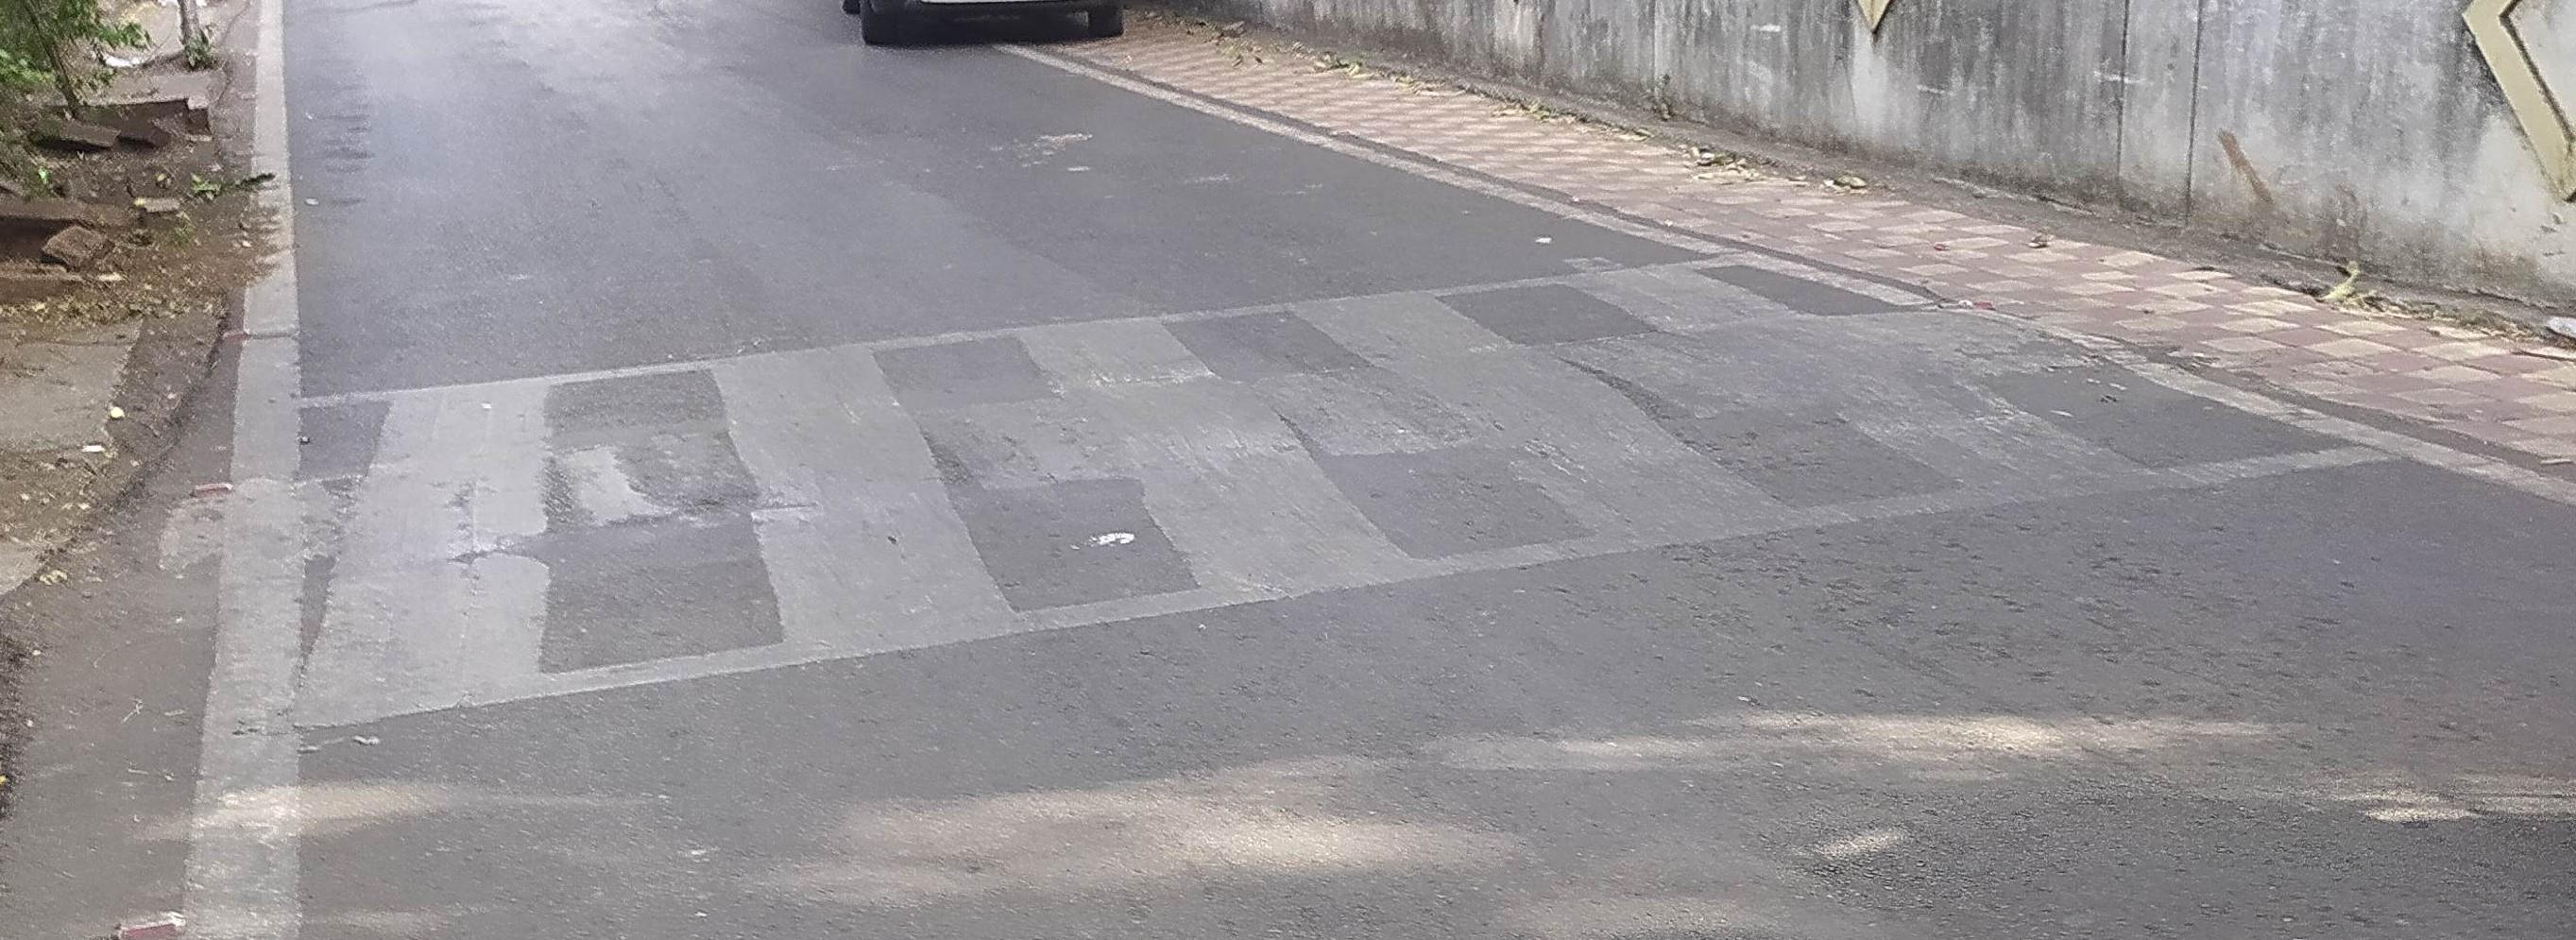speed-bump: (144, 240, 2385, 757)
